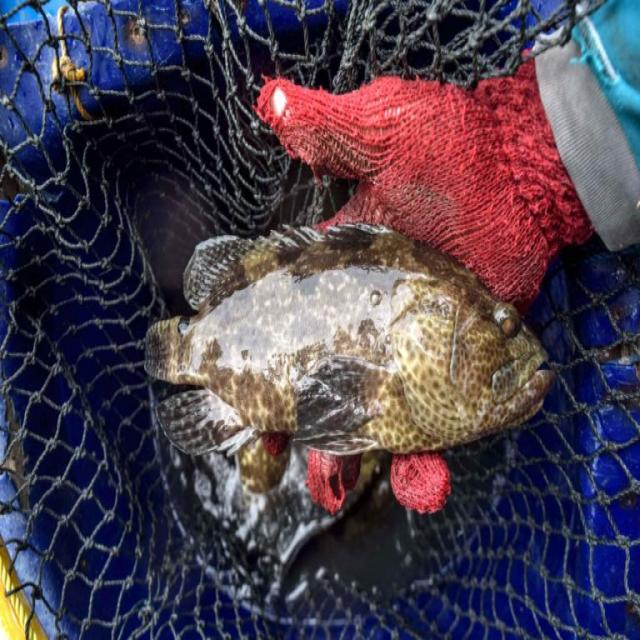grouper: (141, 217, 561, 474)
